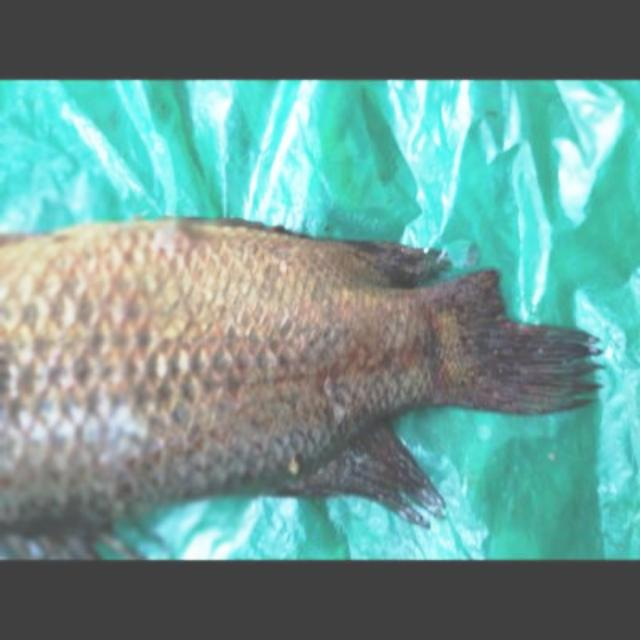Columnaris Disease: (0, 219, 595, 546)
